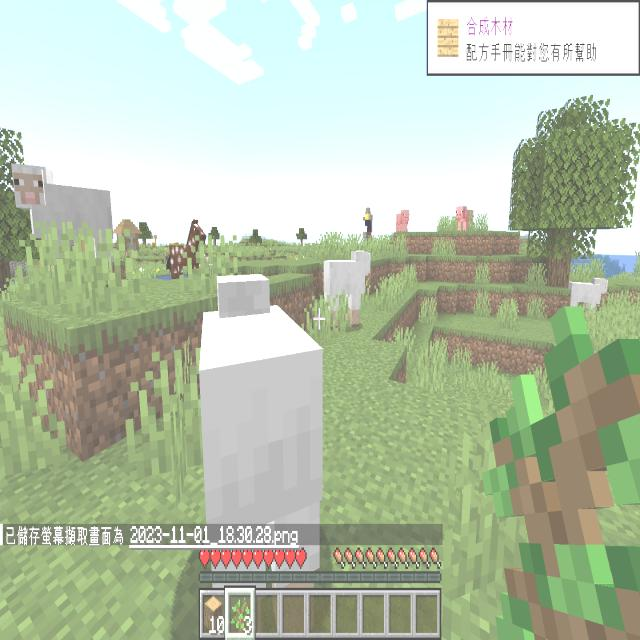pig: (318, 230, 379, 346), (453, 197, 478, 243), (389, 204, 415, 238)
